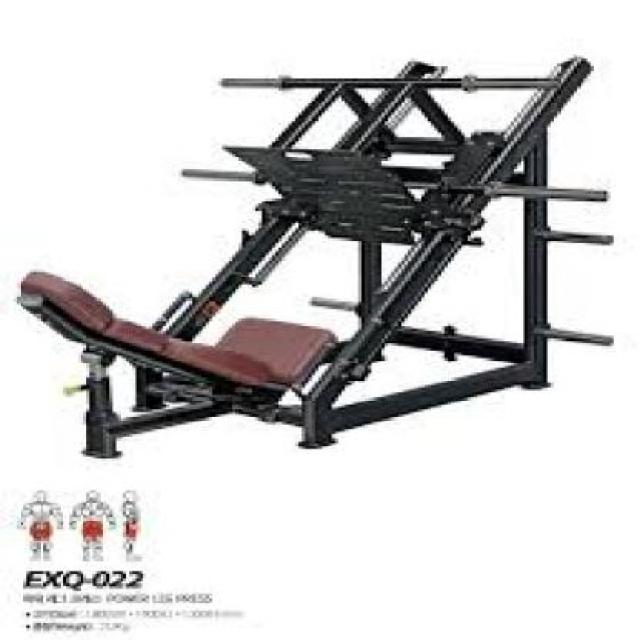leg press: (17, 51, 631, 460)
